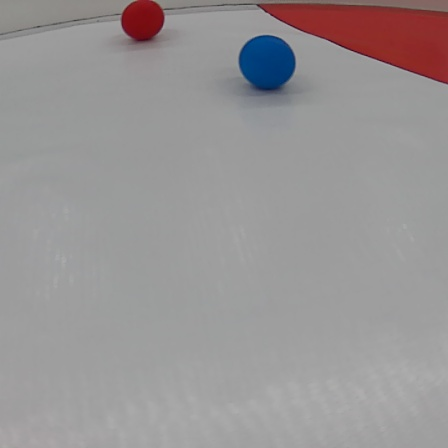blue: (236, 34, 300, 96)
red: (119, 0, 165, 41)
red_base: (258, 2, 447, 92)
